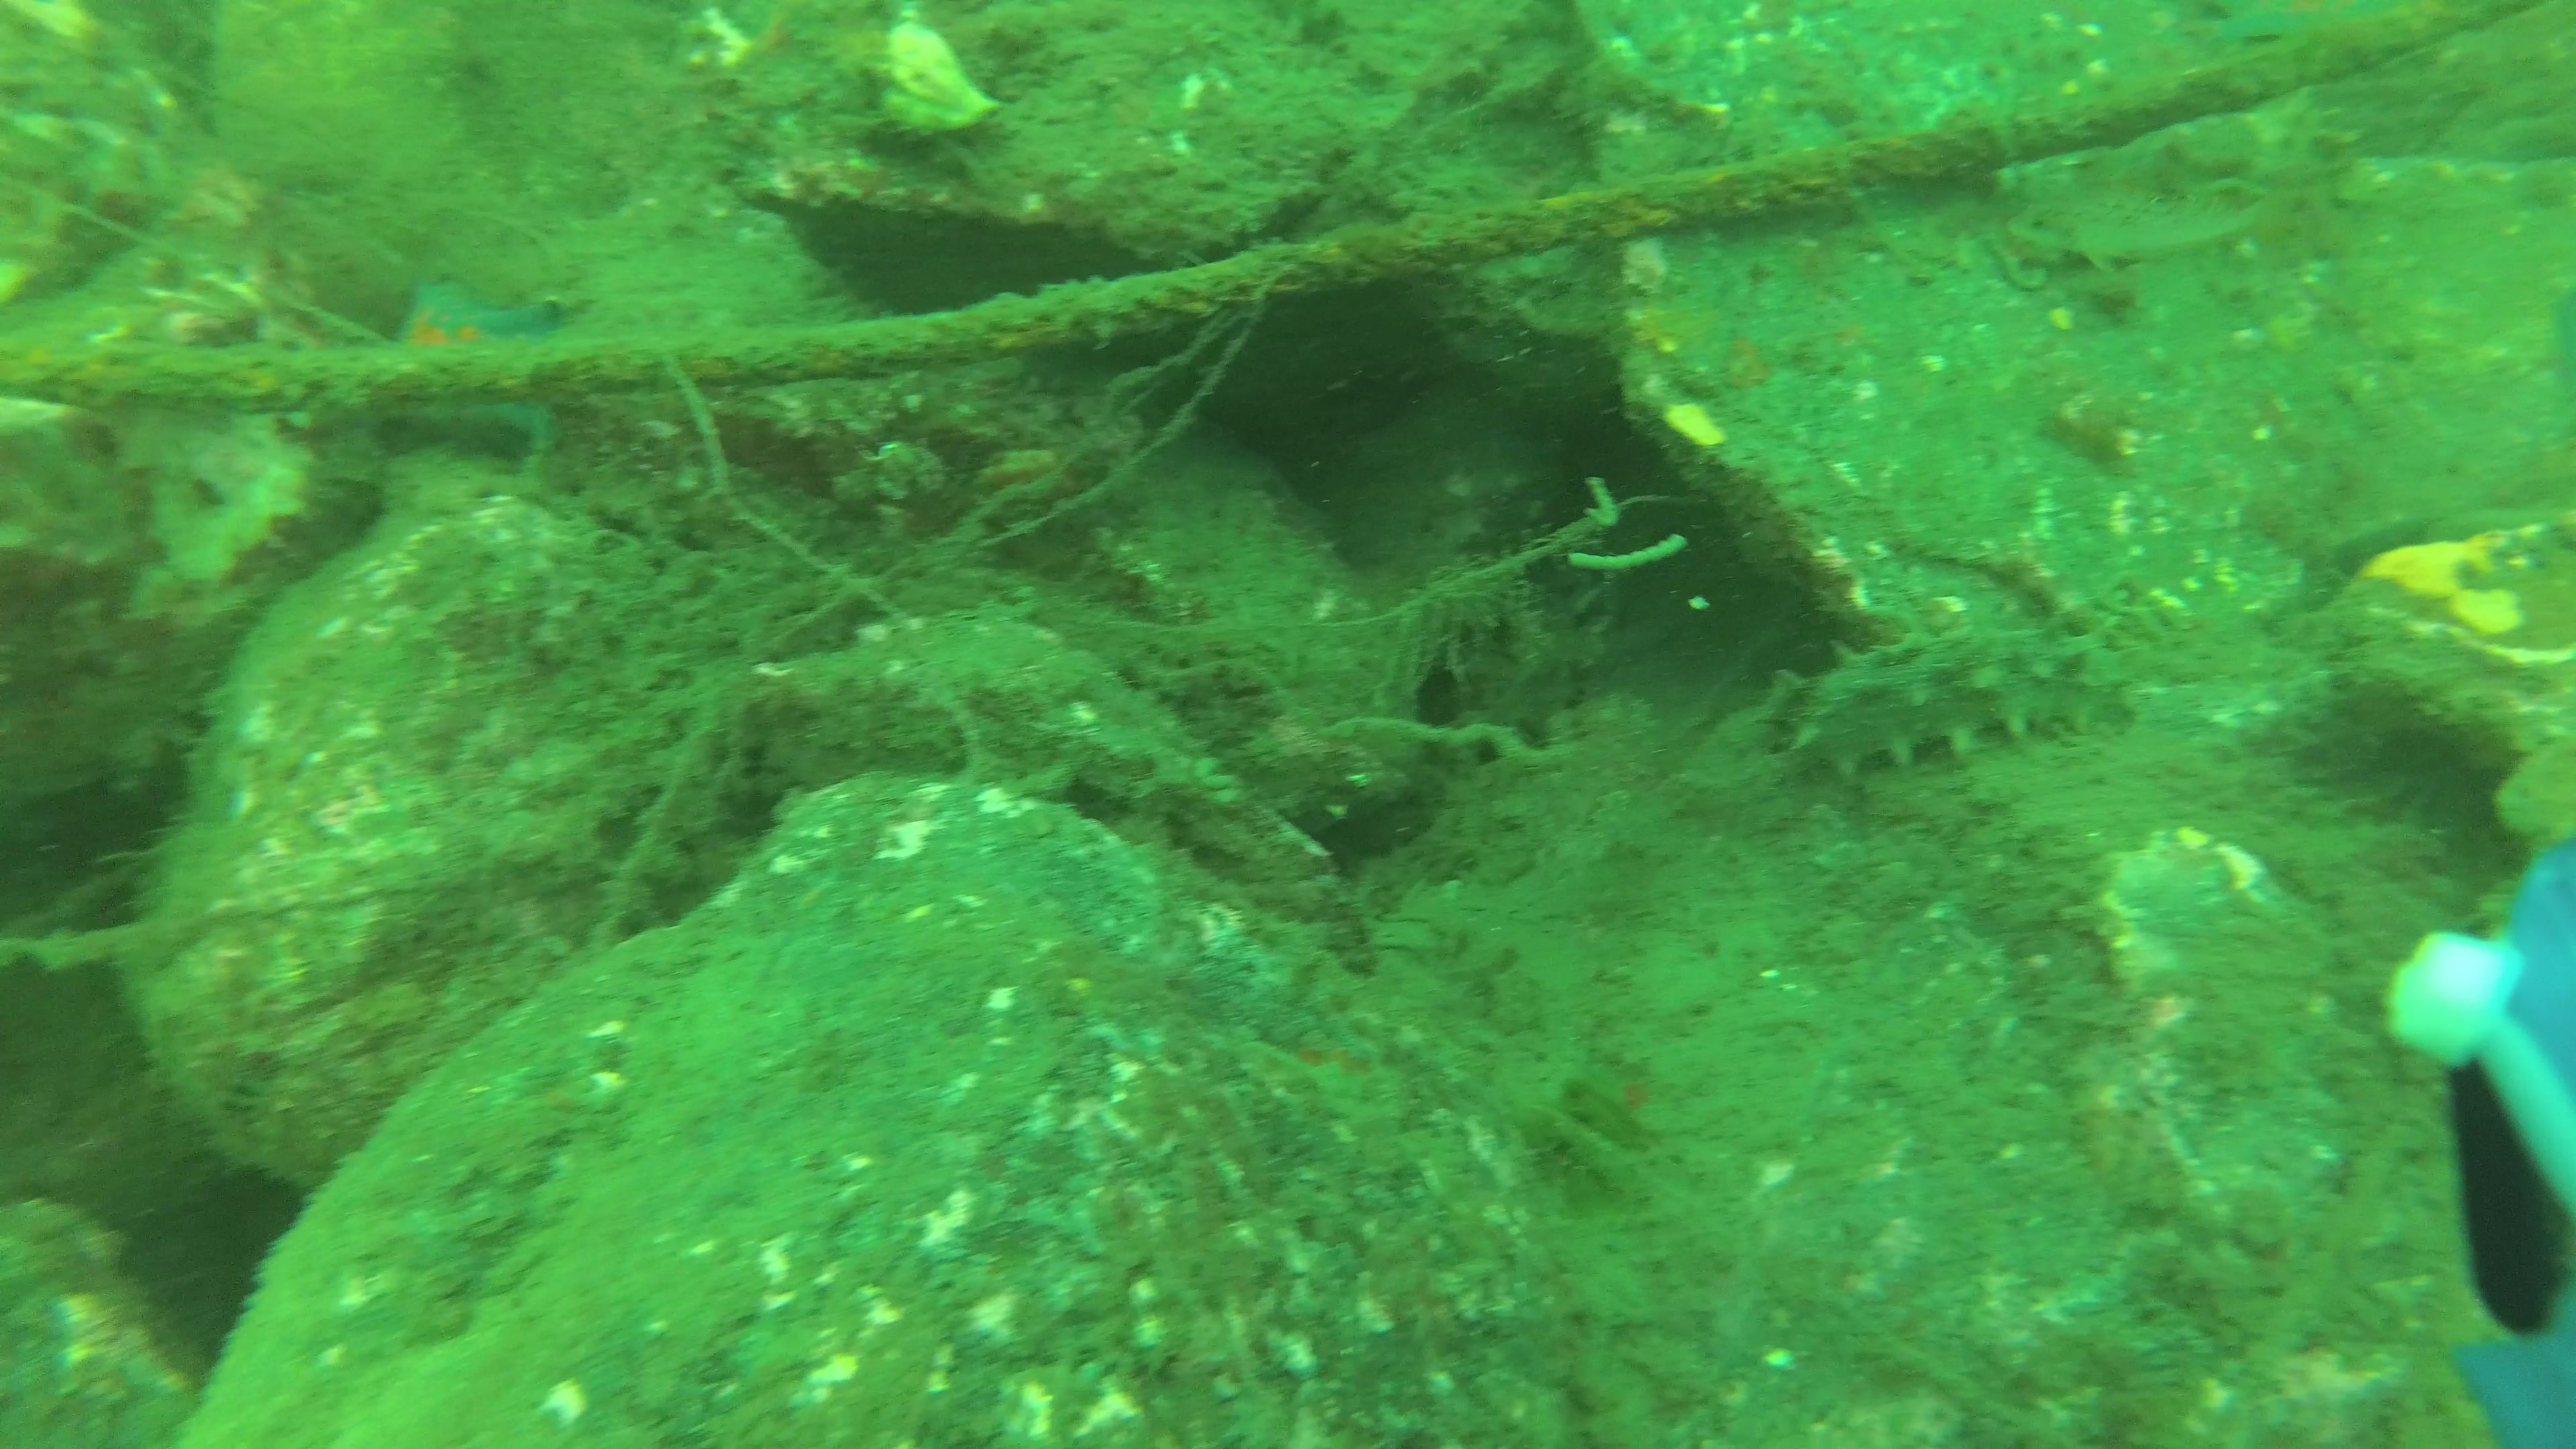holothurian: (1764, 617, 2112, 784)
starfish: (379, 272, 561, 444)
